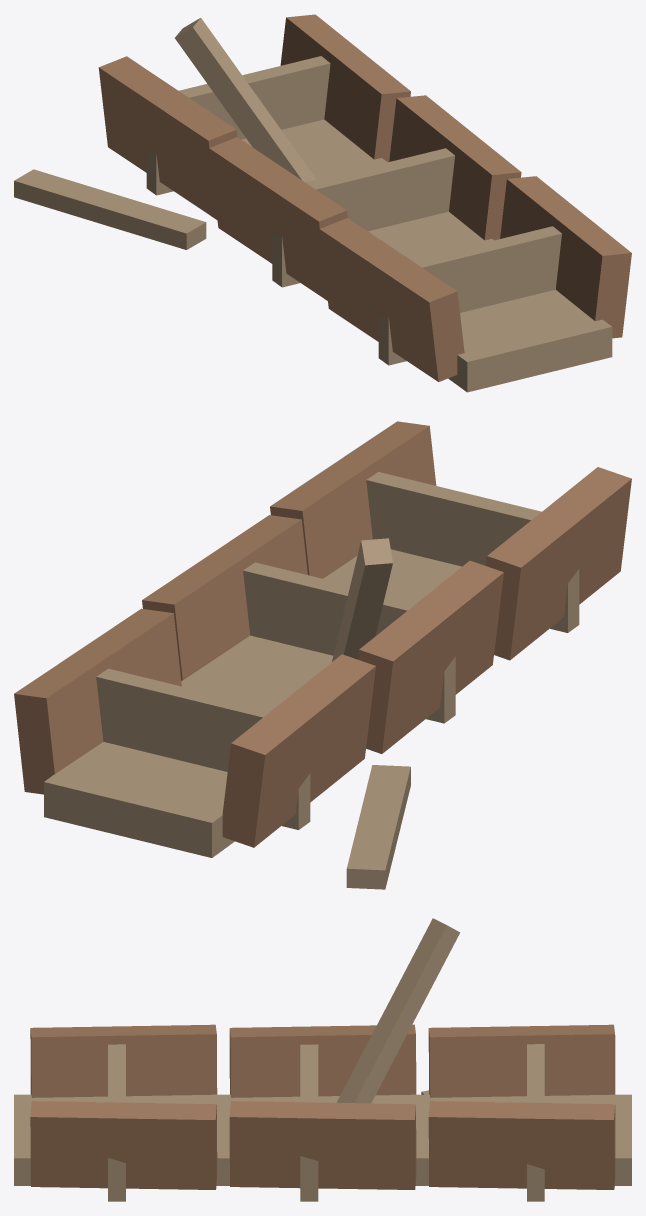
File: NAT_WreckBoat.fbx
3 views of the same model, one above another, from view 1: azimuth 30°, elevation 25°; view 2: azimuth 150°, elevation 25°; view 3: azimuth 270°, elevation 25° (orthographic). The views are drawn at different scales.
Visible parts, largest first — view 1: NAT_WreckBoat_MAT_IslandRust, NAT_WreckBoat_ENV_Wood; view 2: NAT_WreckBoat_MAT_IslandRust, NAT_WreckBoat_ENV_Wood; view 3: NAT_WreckBoat_MAT_IslandRust, NAT_WreckBoat_ENV_Wood.
Part boxes in pixels (x1=…): NAT_WreckBoat_MAT_IslandRust: x1=98, y1=14, x2=631, y2=381; NAT_WreckBoat_ENV_Wood: x1=14, y1=18, x2=612, y2=392; NAT_WreckBoat_MAT_IslandRust: x1=14, y1=421, x2=631, y2=847; NAT_WreckBoat_ENV_Wood: x1=44, y1=472, x2=579, y2=889; NAT_WreckBoat_MAT_IslandRust: x1=30, y1=1024, x2=615, y2=1189; NAT_WreckBoat_ENV_Wood: x1=14, y1=918, x2=631, y2=1201.
Size of the model in its own units: 236 by 156 by 450.
